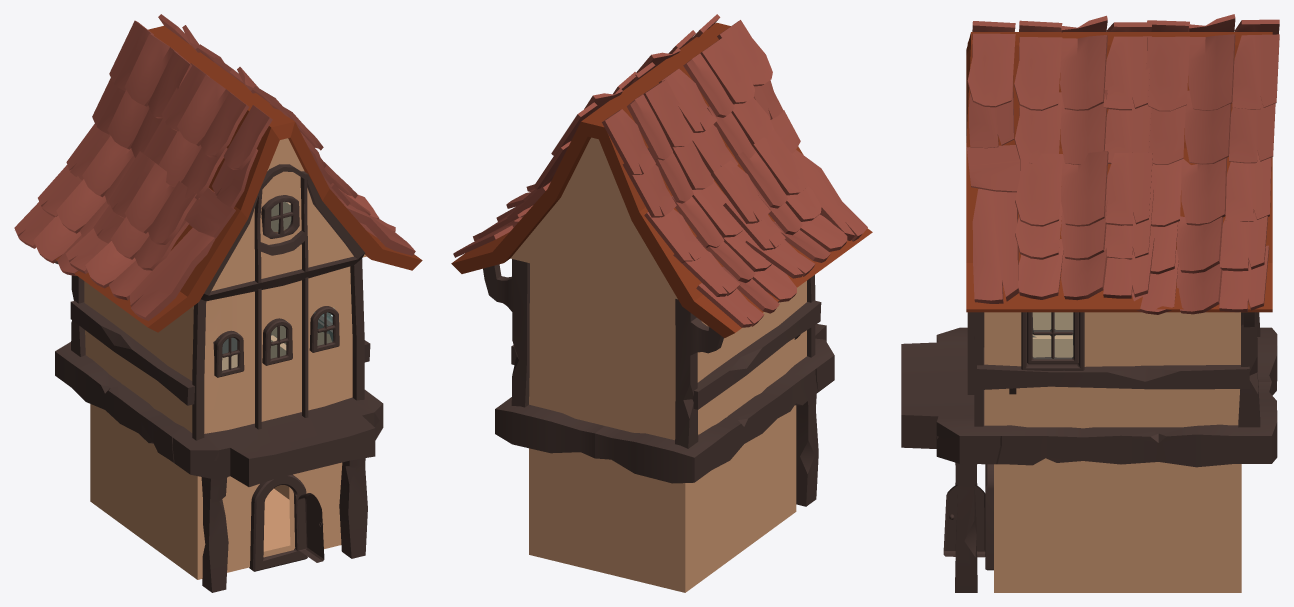
Rendered from FantasyMedivalBuilding2.fbx.
3 views of the same model, side by side, from view 1: azimuth 30°, elevation 25°; view 2: azimuth 150°, elevation 25°; view 3: azimuth 270°, elevation 25° (orthographic). The views are drawn at different scales.
Parts seen in each view (by area): view 1: Building_2, Roof Rocks, Wood Frame, Roof, Windows, Door.001; view 2: Building_2, Roof Rocks, Wood Frame, Roof; view 3: Roof Rocks, Building_2, Wood Frame, Roof, Door.001, Windows, Glass.009.
Part boxes in pixels (x1,y1,x2,y2): Building_2: (84,138,366,579); Roof Rocks: (14,14,415,321); Wood Frame: (55,164,383,592); Roof: (55,26,422,332); Windows: (214,195,339,377); Door.001: (249,474,324,571); Building_2: (510,137,806,592); Roof Rocks: (453,14,867,327); Wood Frame: (483,259,834,506); Roof: (451,22,872,338); Roof Rocks: (966,14,1279,314); Building_2: (984,312,1241,592); Wood Frame: (901,312,1277,592); Roof: (966,32,1272,312); Door.001: (943,464,993,570); Windows: (983,312,1084,370); Glass.009: (1033,313,1072,356).
Bounding box in the file's own units: 4057 × 6190 × 4015.
